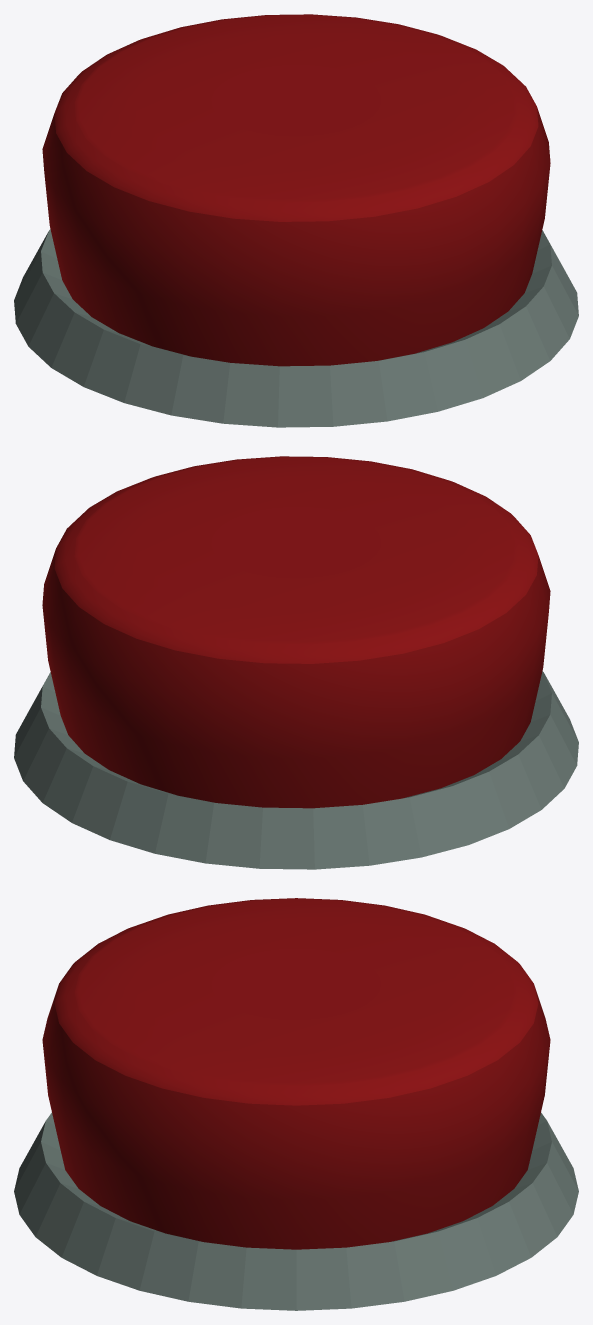
Rendered from Cy button 1.fbx.
3 views of the same model, one above another, from view 1: azimuth 30°, elevation 25°; view 2: azimuth 150°, elevation 25°; view 3: azimuth 270°, elevation 25° (orthographic).
Parts seen in each view (by area): view 1: Cylinder.001, Cylinder.002; view 2: Cylinder.001, Cylinder.002; view 3: Cylinder.001, Cylinder.002.
Part boxes in pixels (<box>): Cylinder.001: <box>42,14,550,366</box>; Cylinder.002: <box>14,229,578,427</box>; Cylinder.001: <box>42,456,550,808</box>; Cylinder.002: <box>14,671,578,869</box>; Cylinder.001: <box>42,898,550,1249</box>; Cylinder.002: <box>14,1112,578,1310</box>.
Size of the model in its own units: 535 by 216 by 535.
Materials: 1 (1 with a texture image).
